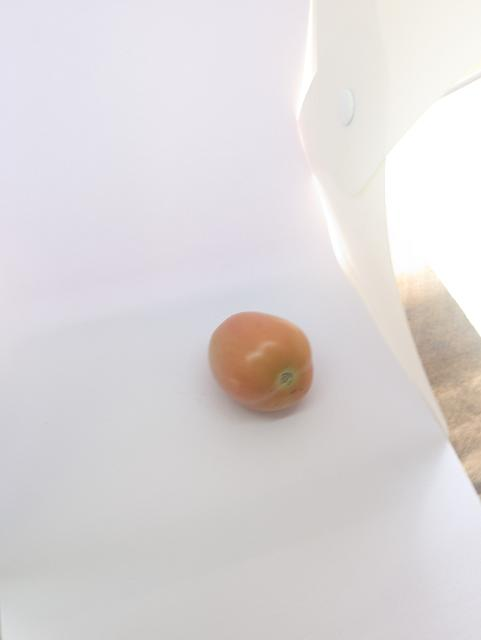turning: (203, 304, 322, 417)
